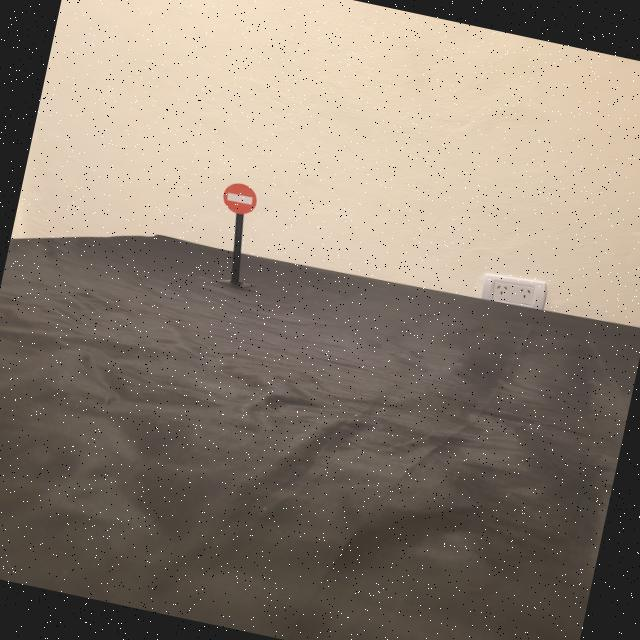no_entry: (219, 180, 260, 217)
